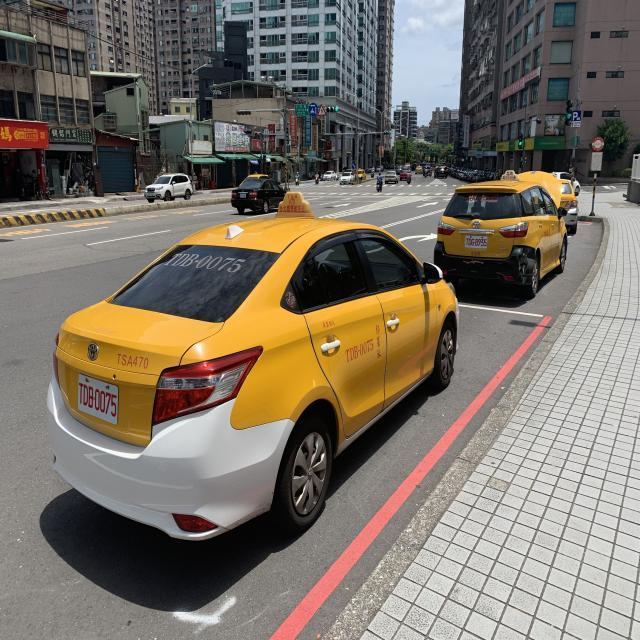taxi: (41, 189, 466, 569), (431, 166, 584, 309)
